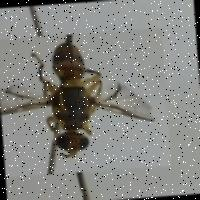Oriental-fruit-fly: (0, 26, 170, 175)
